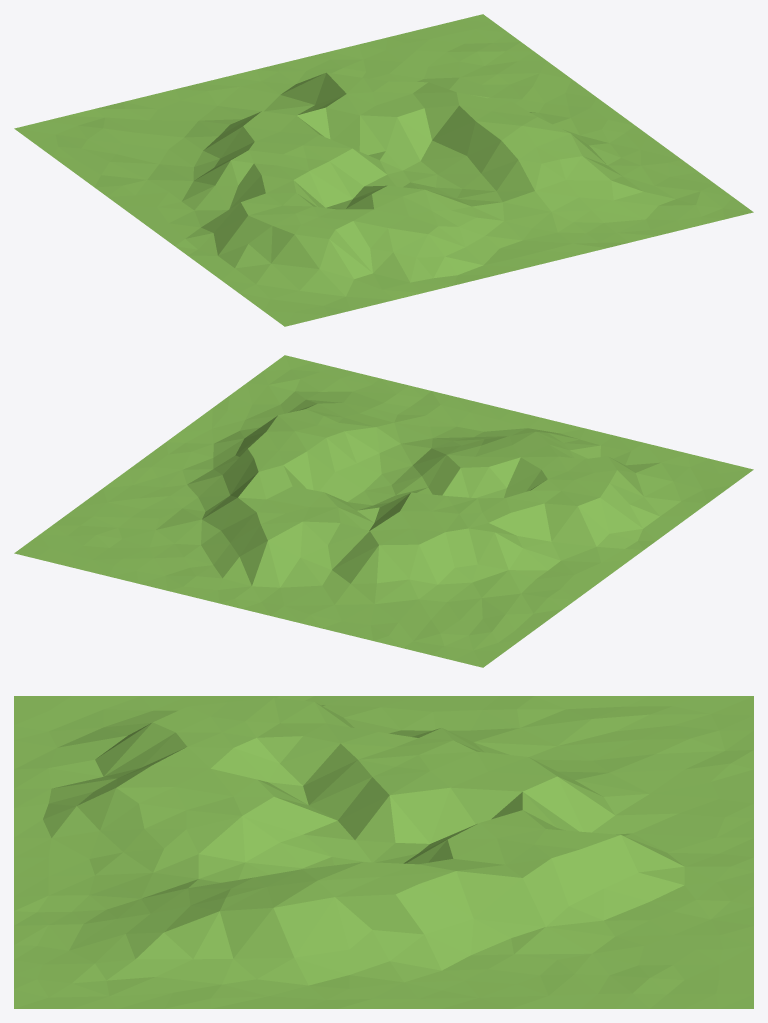
The model's file is MT_Terrain_M_d_02_LOD.fbx.
3 renders of one model, top to bottom at view 1: azimuth 30°, elevation 25°; view 2: azimuth 150°, elevation 25°; view 3: azimuth 270°, elevation 25°, orthographic. The views are drawn at different scales.
Visible parts, largest first — view 1: MT_Terrain_M_d_02_LOD0; view 2: MT_Terrain_M_d_02_LOD0; view 3: MT_Terrain_M_d_02_LOD0.
Part boxes in pixels (<box>): MT_Terrain_M_d_02_LOD0: <box>14,14,753,326</box>; MT_Terrain_M_d_02_LOD0: <box>14,355,753,667</box>; MT_Terrain_M_d_02_LOD0: <box>14,696,753,1008</box>.
Size of what is drawn, in the model's own units: 5000 by 365 by 5000.
